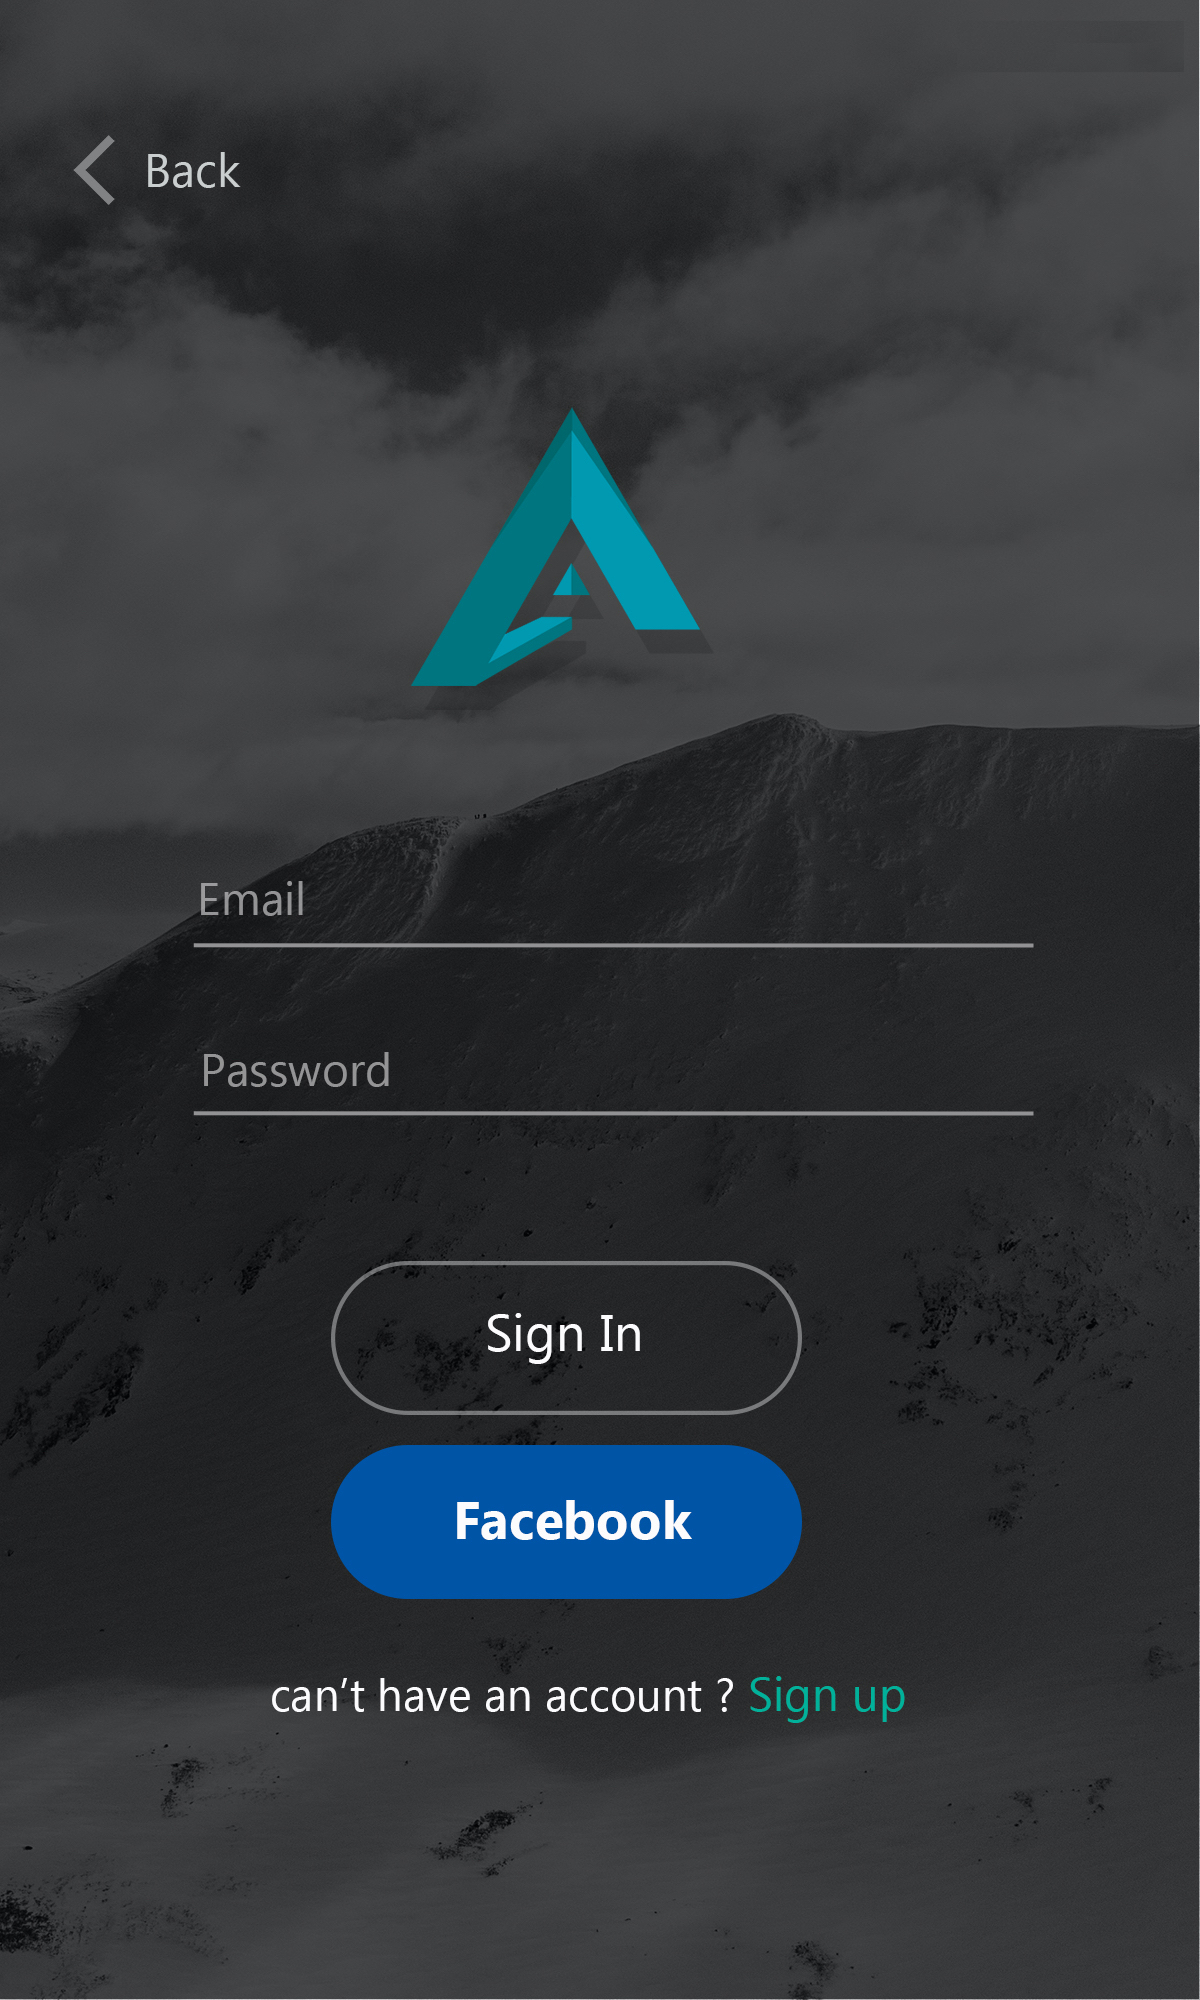BackgroundImage: (1, 1, 1200, 2000)
EditText: (194, 880, 1034, 950), (193, 1051, 1034, 1117)
Icon: (73, 134, 117, 207)
Image: (411, 406, 701, 689)
Text: (271, 1676, 906, 1724), (204, 1051, 391, 1089), (200, 880, 306, 919), (149, 151, 243, 190)
TextButton: (331, 1444, 803, 1600), (331, 1261, 803, 1416)
